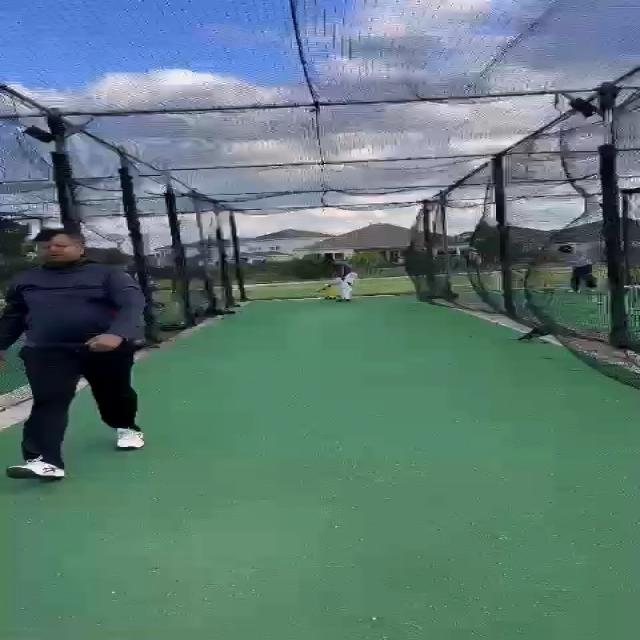batsman: (315, 258, 358, 302)
